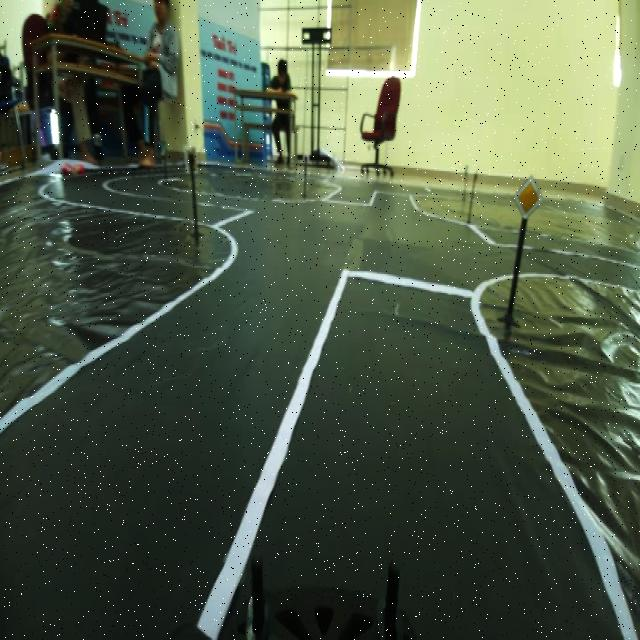priority: (512, 168, 547, 228)
